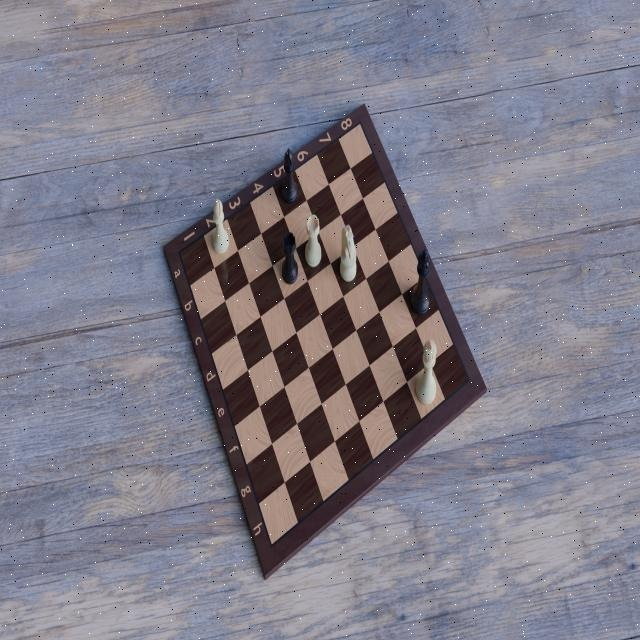black-bishop: (280, 147, 300, 206)
black-king: (409, 246, 432, 318)
black-rook: (280, 229, 299, 286)
white-bishop: (211, 196, 229, 256)
white-king: (414, 337, 437, 407)
white-knight: (337, 223, 359, 285)
white-rook: (303, 211, 323, 271)
